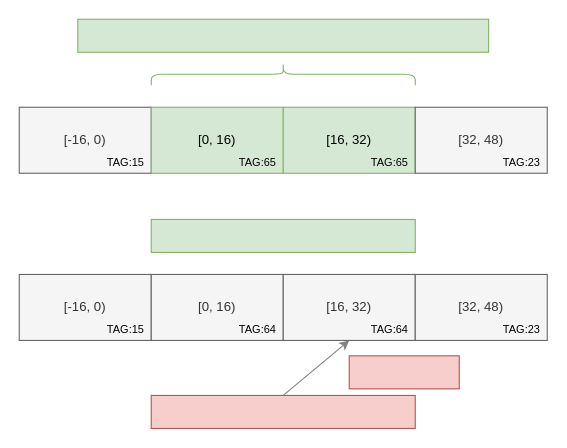
Some shapes in this 567 by 448 pixel diagram are drawn without their labels. The box of each missing label's shape, as (x1, y1, x2, y2) in pixels:
char *p = malloc(20); // p: 0x650000458e3d2780 => TAG = 0x65: (77, 18, 489, 52)
free(p); // 原内存块TAG变更: (150, 218, 415, 252)
p[16] = 'a';: (150, 394, 415, 428)
TAG 65 != 64: (348, 355, 459, 389)
